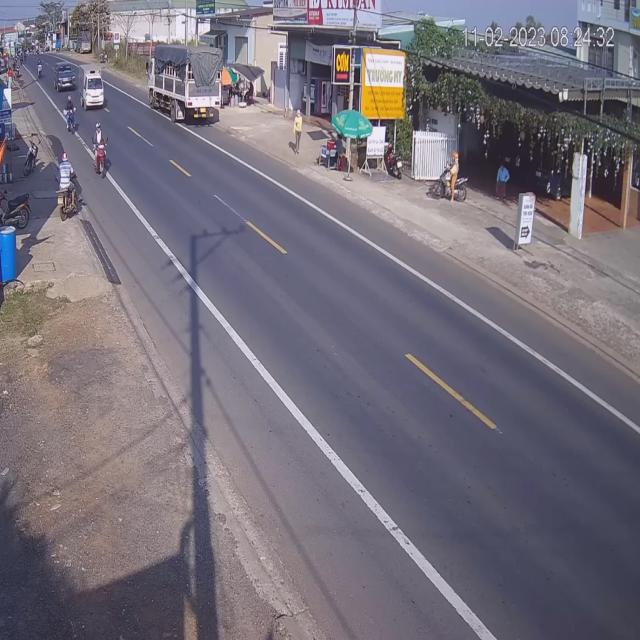car: (54, 60, 74, 93)
motorbike: (59, 155, 74, 222), (91, 124, 107, 178), (319, 138, 336, 170), (65, 96, 78, 134)
truck: (148, 43, 223, 125), (78, 65, 105, 110)
